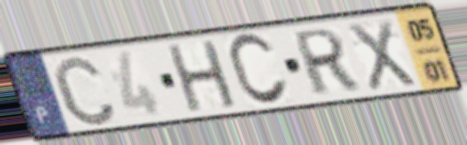4: (118, 47, 164, 121)
C: (49, 53, 120, 129), (225, 30, 292, 109)
H: (164, 37, 242, 115)
R: (291, 25, 361, 99)
X: (343, 17, 420, 95)
